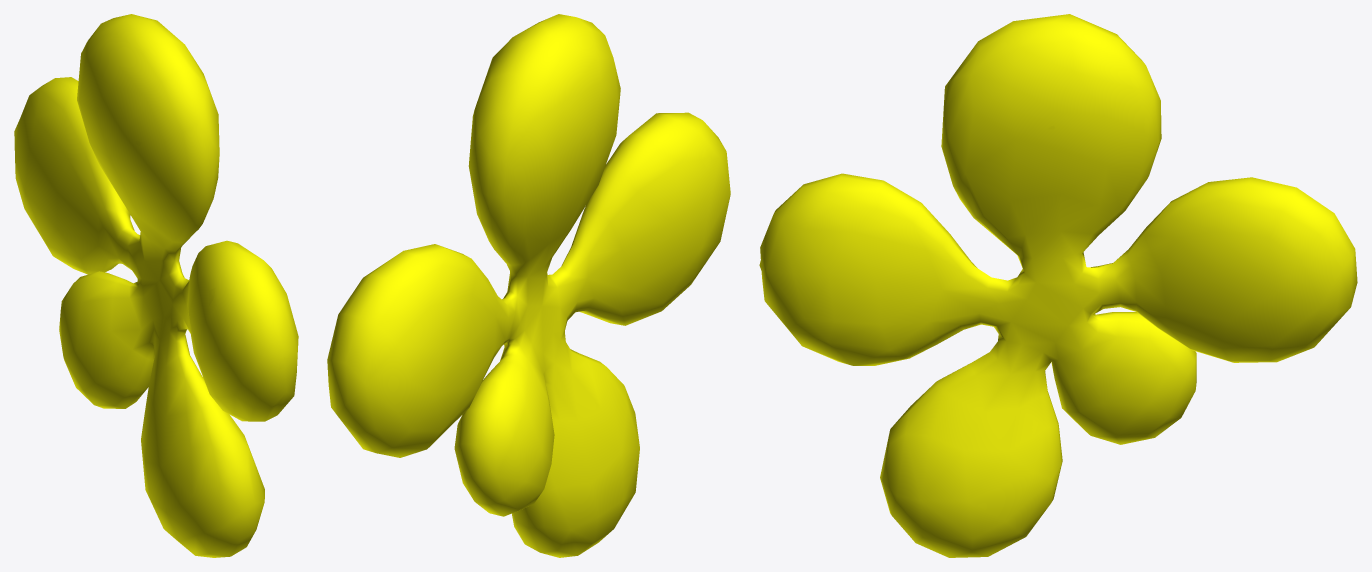
Rendered from Flower.fbx.
The picture shows the model from 3 angles, left to right: view 1: azimuth 30°, elevation 25°; view 2: azimuth 150°, elevation 25°; view 3: azimuth 270°, elevation 25°; orthographic projection. The views are drawn at different scales.
Visible parts, largest first — view 1: Yellow; view 2: Yellow; view 3: Yellow.
Boxes of the visible parts, left/top/right/bottom form: Yellow: left=14, top=14, right=298, bottom=557; Yellow: left=327, top=14, right=730, bottom=557; Yellow: left=759, top=14, right=1357, bottom=557.
Size of the model in its own units: 22.05 by 91.3 by 94.27.
1 material, 1 textured.
